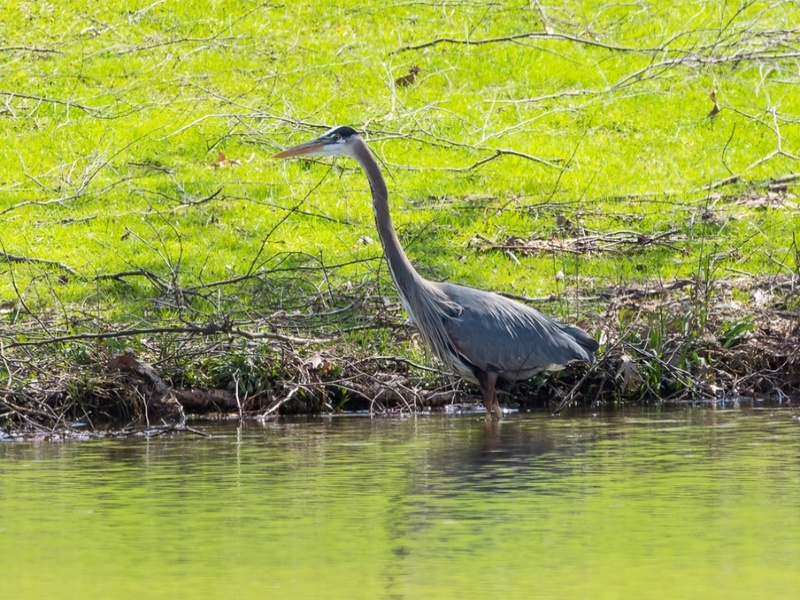heron: (274, 121, 601, 412)
